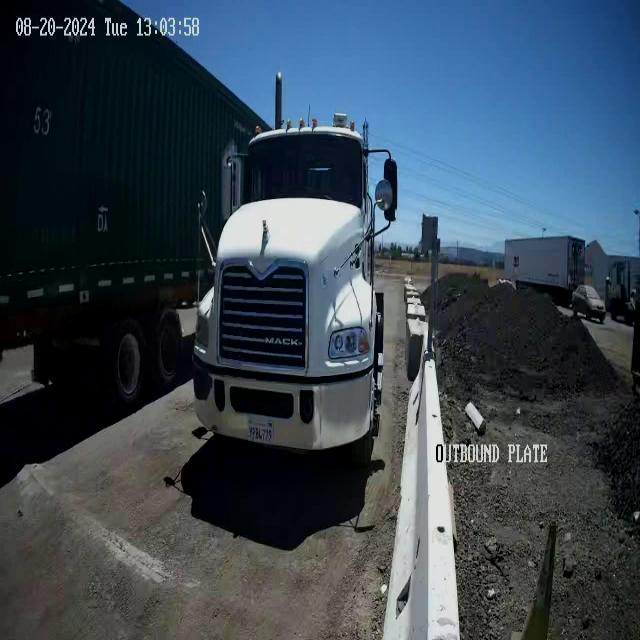CONTAINER: (0, 0, 193, 322)
